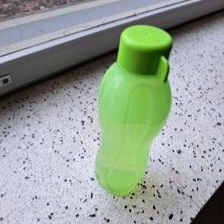bottle: (94, 21, 175, 194)
